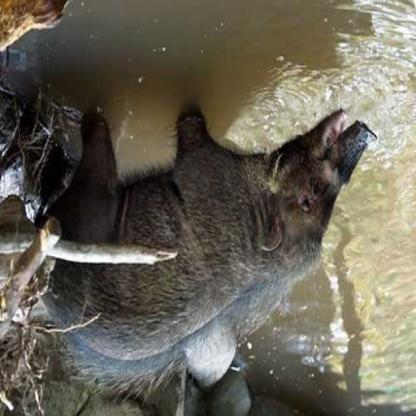boar: (31, 60, 390, 390)
